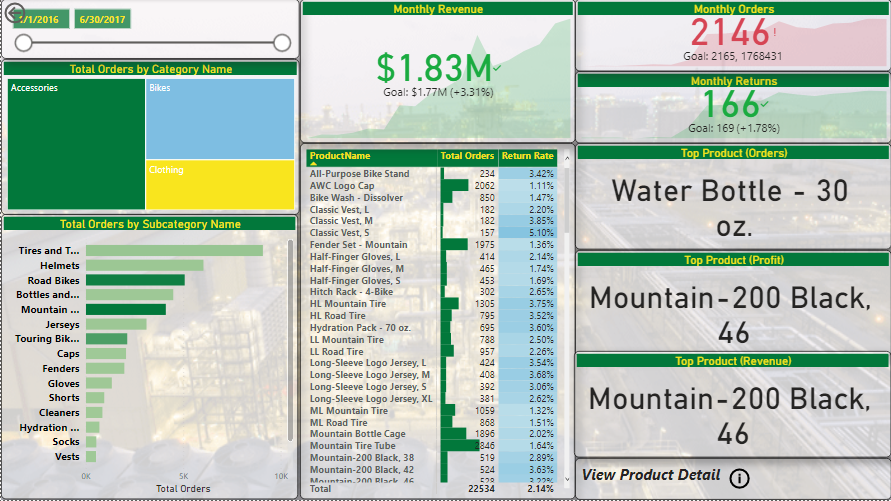

The page's visual inventory and layout, read from the dashboard file:
{"tool":"powerbi","page":{"name":"Exec Summary","canvas":[1280,720],"ordinal":0},"visuals":[{"type":"treemap","title":"Total Orders by Category Name","fields":{"Group":["AW_Product_Category_Lookup.CategoryName","AW_Product_Subcategory_Lookup.SubcategoryName"],"Values":["AW_Sales.Total Orders"]},"box":[0,85.8,428.9,223.7],"z":0},{"type":"barChart","title":"Total Orders by Subcategory Name","fields":{"Y":["AW_Sales.Total Orders"],"Category":["AW_Product_Subcategory_Lookup.SubcategoryName"]},"box":[0,309.5,427.2,410.4],"z":1000},{"type":"pivotTable","fields":{"Rows":["AW_Product_Category_Lookup.CategoryName","AW_Product_Subcategory_Lookup.SubcategoryName","AW_Product_Lookup.ProductName"],"Values":["AW_Sales.Total Orders","AW_Returns.Return Rate"]},"box":[429,207.5,395.6,511.6],"z":2000},{"type":"slicer","fields":{"Values":["AW_Calendar_Lookup.Date"]},"box":[0,0,428.9,85.8],"z":3000},{"type":"kpi","title":"Monthly Revenue","fields":{"Indicator":["AW_Sales.Total Revenue"],"TrendLine":["AW_Calendar_Lookup.Start of Month"],"Goal":["AW_Sales.Prev Month Revenue"]},"box":[429,0,395.6,207.5],"z":4000},{"type":"kpi","title":"Monthly Returns","fields":{"TrendLine":["AW_Calendar_Lookup.Start of Month"],"Goal":["AW_Returns.Prev Month Returns"],"Indicator":["AW_Returns.Total Retuns"]},"box":[824.6,103.7,455.4,103.7],"z":5000},{"type":"kpi","title":"Monthly Orders","fields":{"TrendLine":["AW_Calendar_Lookup.Start of Month"],"Goal":["AW_Sales.Prev Month Orders","AW_Sales.Prev Month Revenue"],"Indicator":["AW_Sales.Total Orders"]},"box":[824.6,0,455.4,103.7],"z":6000},{"type":"card","title":"Top Product (Orders)","fields":{"Values":["Min(AW_Product_Lookup.ProductName)"]},"box":[824.6,207.5,455.4,153],"z":7000},{"type":"card","title":"Top Product (Profit)","fields":{"Values":["Min(AW_Product_Lookup.ProductName)"]},"box":[824.6,360.4,455.4,153],"z":8000},{"type":"textbox","box":[824.6,659.3,455.4,59.8],"z":9000},{"type":"actionButton","box":[1042.5,669.9,82,39.3],"z":10000},{"type":"card","title":"Top Product (Revenue)","fields":{"Values":["Min(AW_Product_Lookup.ProductName)"]},"box":[824.2,506.3,455.8,153.1],"z":11000},{"type":"actionButton","box":[0,0,100,40],"z":11002}]}

Visuals, with their boxes in screenshot pixels (x1, y1, x2, y2), scaled from the page's 1280x720 canvas onto the 891x501 screenshot:
"Total Orders by Category Name" treemap: bbox(0, 60, 299, 215)
"Total Orders by Subcategory Name" barChart: bbox(0, 215, 297, 500)
pivotTable - AW_Product_Category_Lookup.CategoryName x AW_Product_Subcategory_Lookup.SubcategoryName: bbox(299, 144, 574, 500)
slicer - AW_Calendar_Lookup.Date: bbox(0, 0, 299, 60)
"Monthly Revenue" kpi: bbox(299, 0, 574, 144)
"Monthly Returns" kpi: bbox(574, 72, 890, 144)
"Monthly Orders" kpi: bbox(574, 0, 890, 72)
"Top Product (Orders)" card: bbox(574, 144, 890, 251)
"Top Product (Profit)" card: bbox(574, 251, 890, 357)
textbox: bbox(574, 459, 890, 500)
actionButton: bbox(726, 466, 783, 493)
"Top Product (Revenue)" card: bbox(574, 352, 890, 459)
actionButton: bbox(0, 0, 70, 28)
